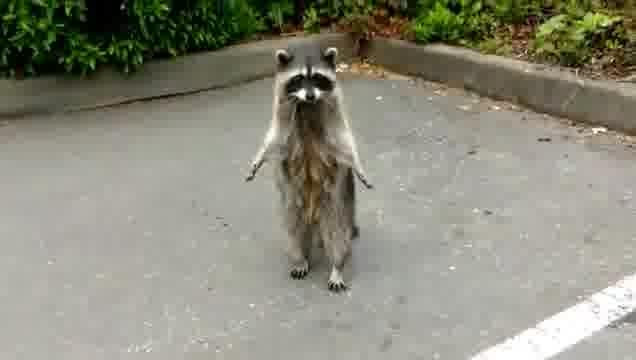raccoon: (237, 40, 376, 296)
